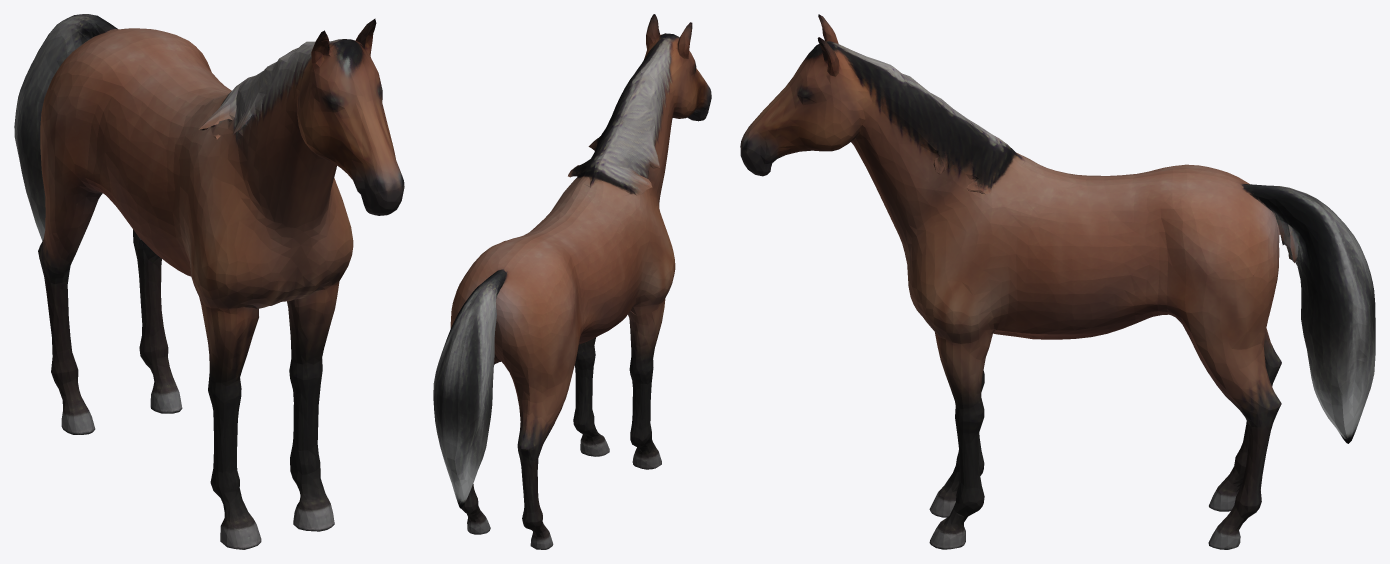
Rendered from piel_caballo.glb.
3 renders of one model, left to right at view 1: azimuth 30°, elevation 25°; view 2: azimuth 150°, elevation 25°; view 3: azimuth 270°, elevation 25°, orthographic. The views are drawn at different scales.
Visible parts, largest first — view 1: world; view 2: world; view 3: world.
Boxes of the visible parts, x1=… form: world: x1=14, y1=14, x2=404, y2=549; world: x1=433, y1=14, x2=711, y2=549; world: x1=740, y1=14, x2=1375, y2=549.
Size of the model in its own units: 0.2574 by 0.87 by 0.9999.
Materials: 1 (1 with a texture image).
